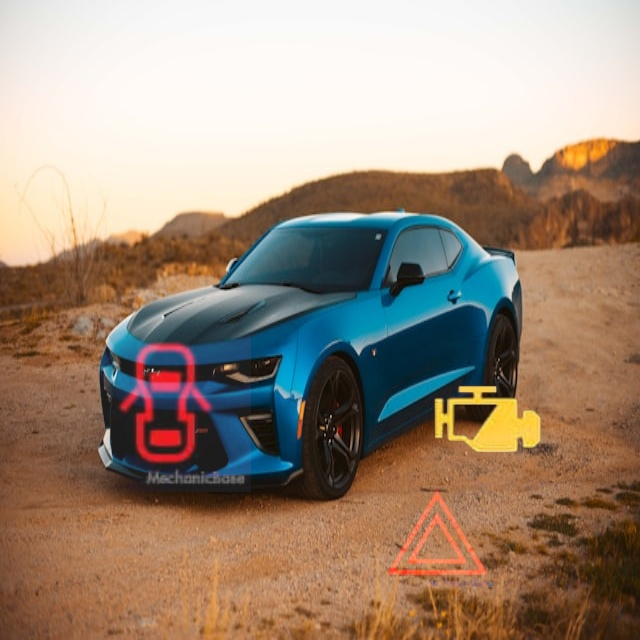symbol: (80, 321, 251, 492), (410, 343, 564, 497), (378, 473, 498, 593)
